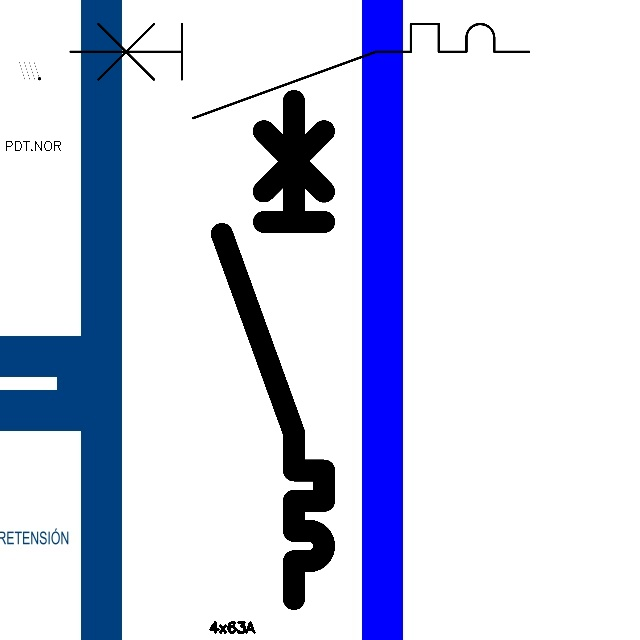interruptor_termomagnetico: (209, 88, 337, 612), (58, 12, 540, 130)
